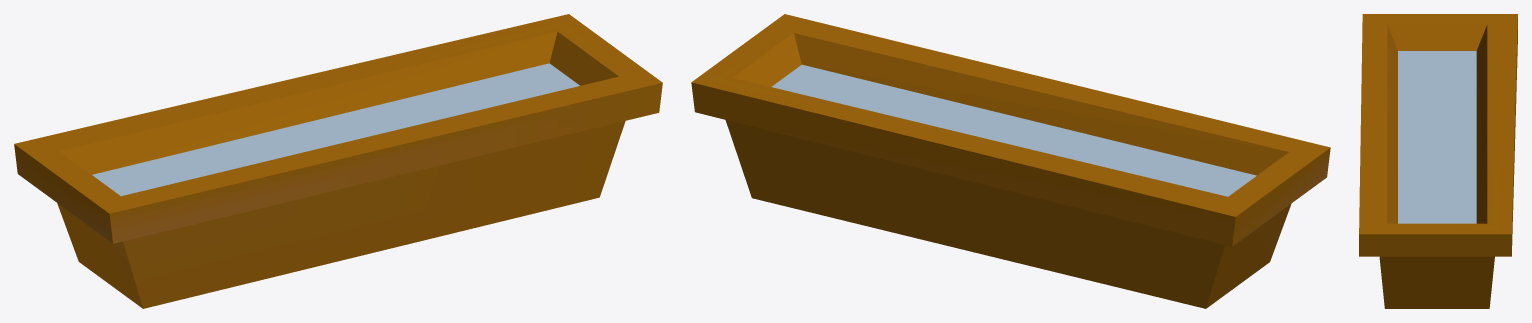
Rendered from trough.fbx.
3 views of the same model, side by side, from view 1: azimuth 30°, elevation 25°; view 2: azimuth 150°, elevation 25°; view 3: azimuth 270°, elevation 25° (orthographic). The views are drawn at different scales.
Parts seen in each view (by area): view 1: trough; view 2: trough; view 3: trough.
Boxes of the visible parts, x1,y1,x2,y2 form: trough: (14, 14, 662, 308); trough: (691, 14, 1330, 308); trough: (1359, 14, 1517, 308).
Bounding box in the file's own units: 170 × 34.49 × 52.28.
